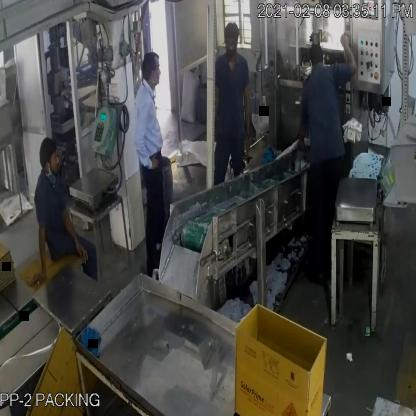no_glove: (57, 199, 95, 278), (130, 112, 164, 178), (28, 214, 52, 293), (335, 24, 361, 88), (240, 74, 256, 154), (289, 112, 311, 158)
